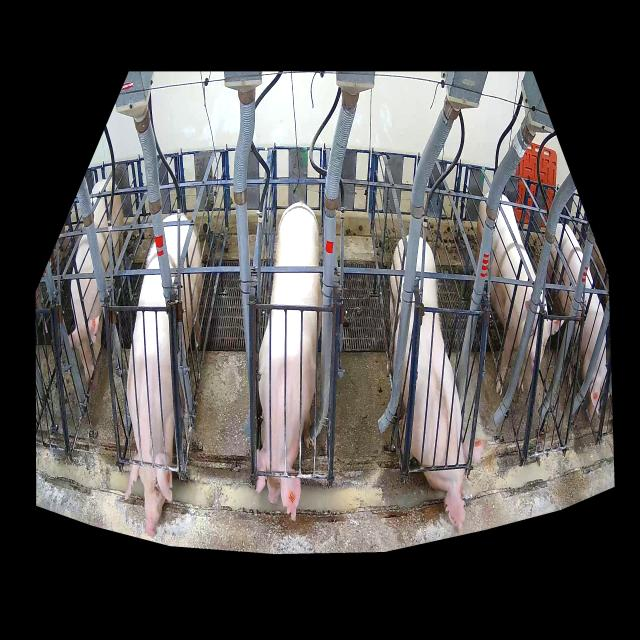pig: (389, 235, 487, 529), (125, 214, 202, 537), (256, 201, 321, 521), (476, 193, 565, 396), (68, 176, 125, 385), (548, 222, 607, 422)
